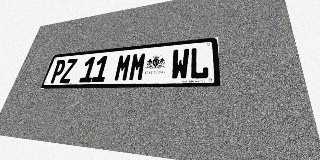1: (91, 55, 110, 82), (79, 57, 98, 83)
L: (189, 46, 209, 79)
M: (113, 53, 133, 82), (128, 52, 147, 81)
P: (49, 59, 67, 83)
W: (170, 48, 190, 80)
Z: (59, 58, 78, 83)
